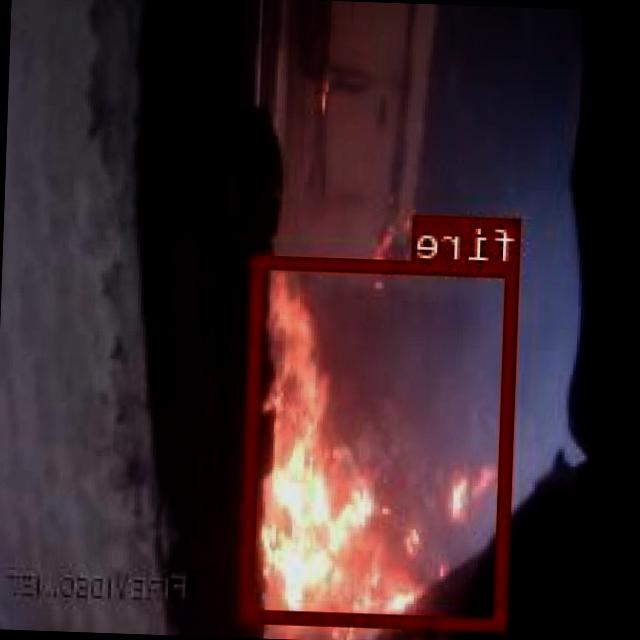fire: (242, 254, 521, 628)
